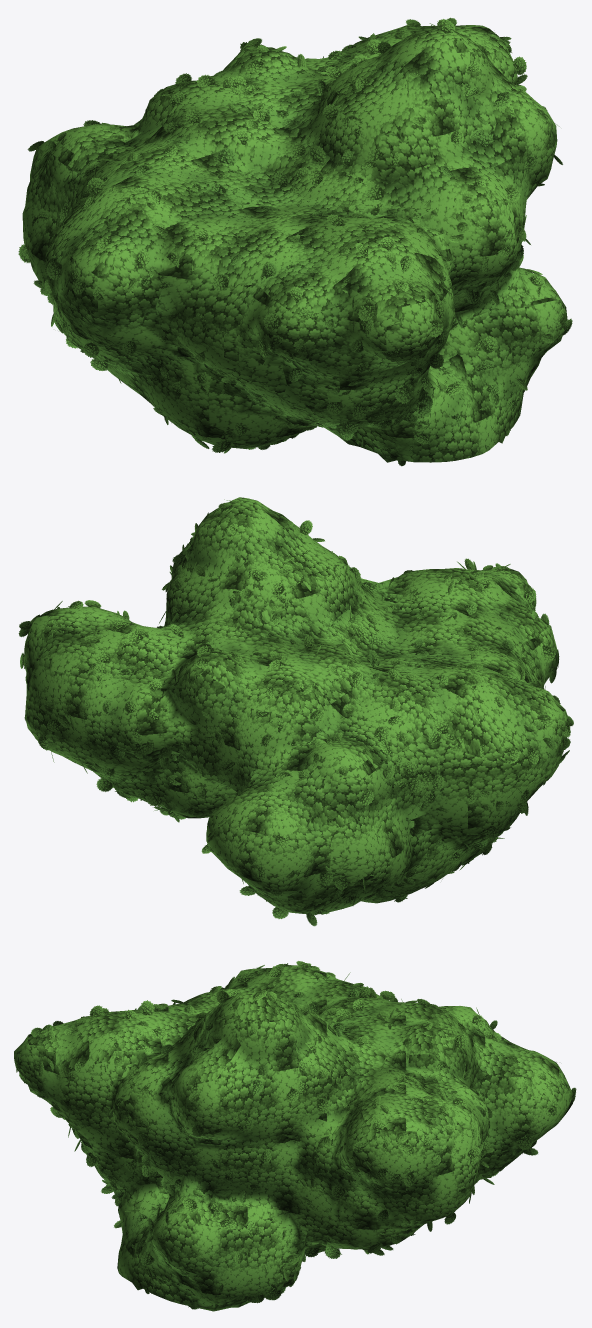
Rendered from ballbush_v2_s15931.gltf.
3 views of the same model, one above another, from view 1: azimuth 30°, elevation 25°; view 2: azimuth 150°, elevation 25°; view 3: azimuth 270°, elevation 25° (orthographic). The views are drawn at different scales.
Parts seen in each view (by area): view 1: ballbush_v2_s15931_volume_LOD0, ballbush_v2_s15931_leaves_LOD0; view 2: ballbush_v2_s15931_volume_LOD0, ballbush_v2_s15931_leaves_LOD0; view 3: ballbush_v2_s15931_volume_LOD0, ballbush_v2_s15931_leaves_LOD0.
Boxes of the visible parts, x1,y1,x2,y2 form: ballbush_v2_s15931_volume_LOD0: [22, 25, 567, 462]; ballbush_v2_s15931_leaves_LOD0: [18, 17, 572, 466]; ballbush_v2_s15931_volume_LOD0: [24, 497, 568, 913]; ballbush_v2_s15931_leaves_LOD0: [18, 499, 573, 926]; ballbush_v2_s15931_volume_LOD0: [14, 965, 572, 1311]; ballbush_v2_s15931_leaves_LOD0: [16, 961, 576, 1309].
Size of what is drawn, in the model's own units: 2.51 by 1.69 by 2.69.
2 materials, 2 textured.
